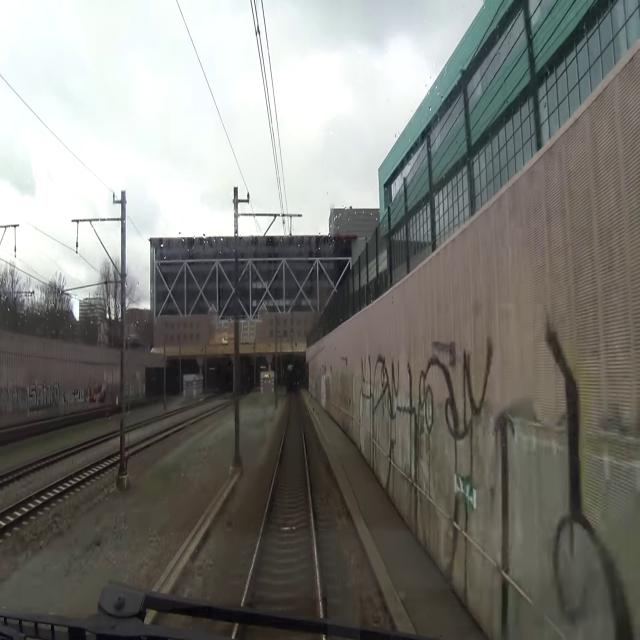rail-track: (240, 394, 320, 629), (0, 467, 93, 521)
